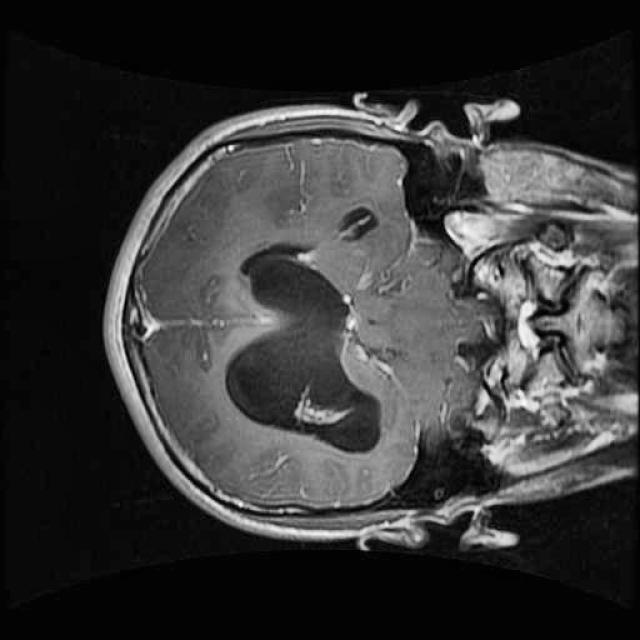Tumor: (216, 232, 396, 468)
